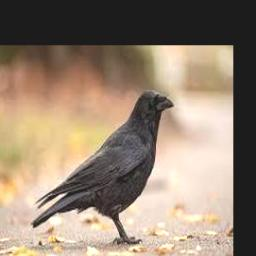Crow: (31, 90, 175, 246)
